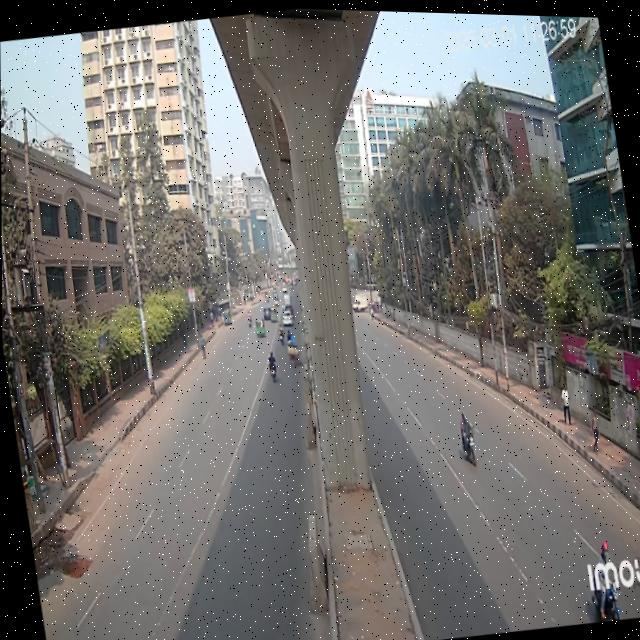cng: (253, 311, 266, 342)
